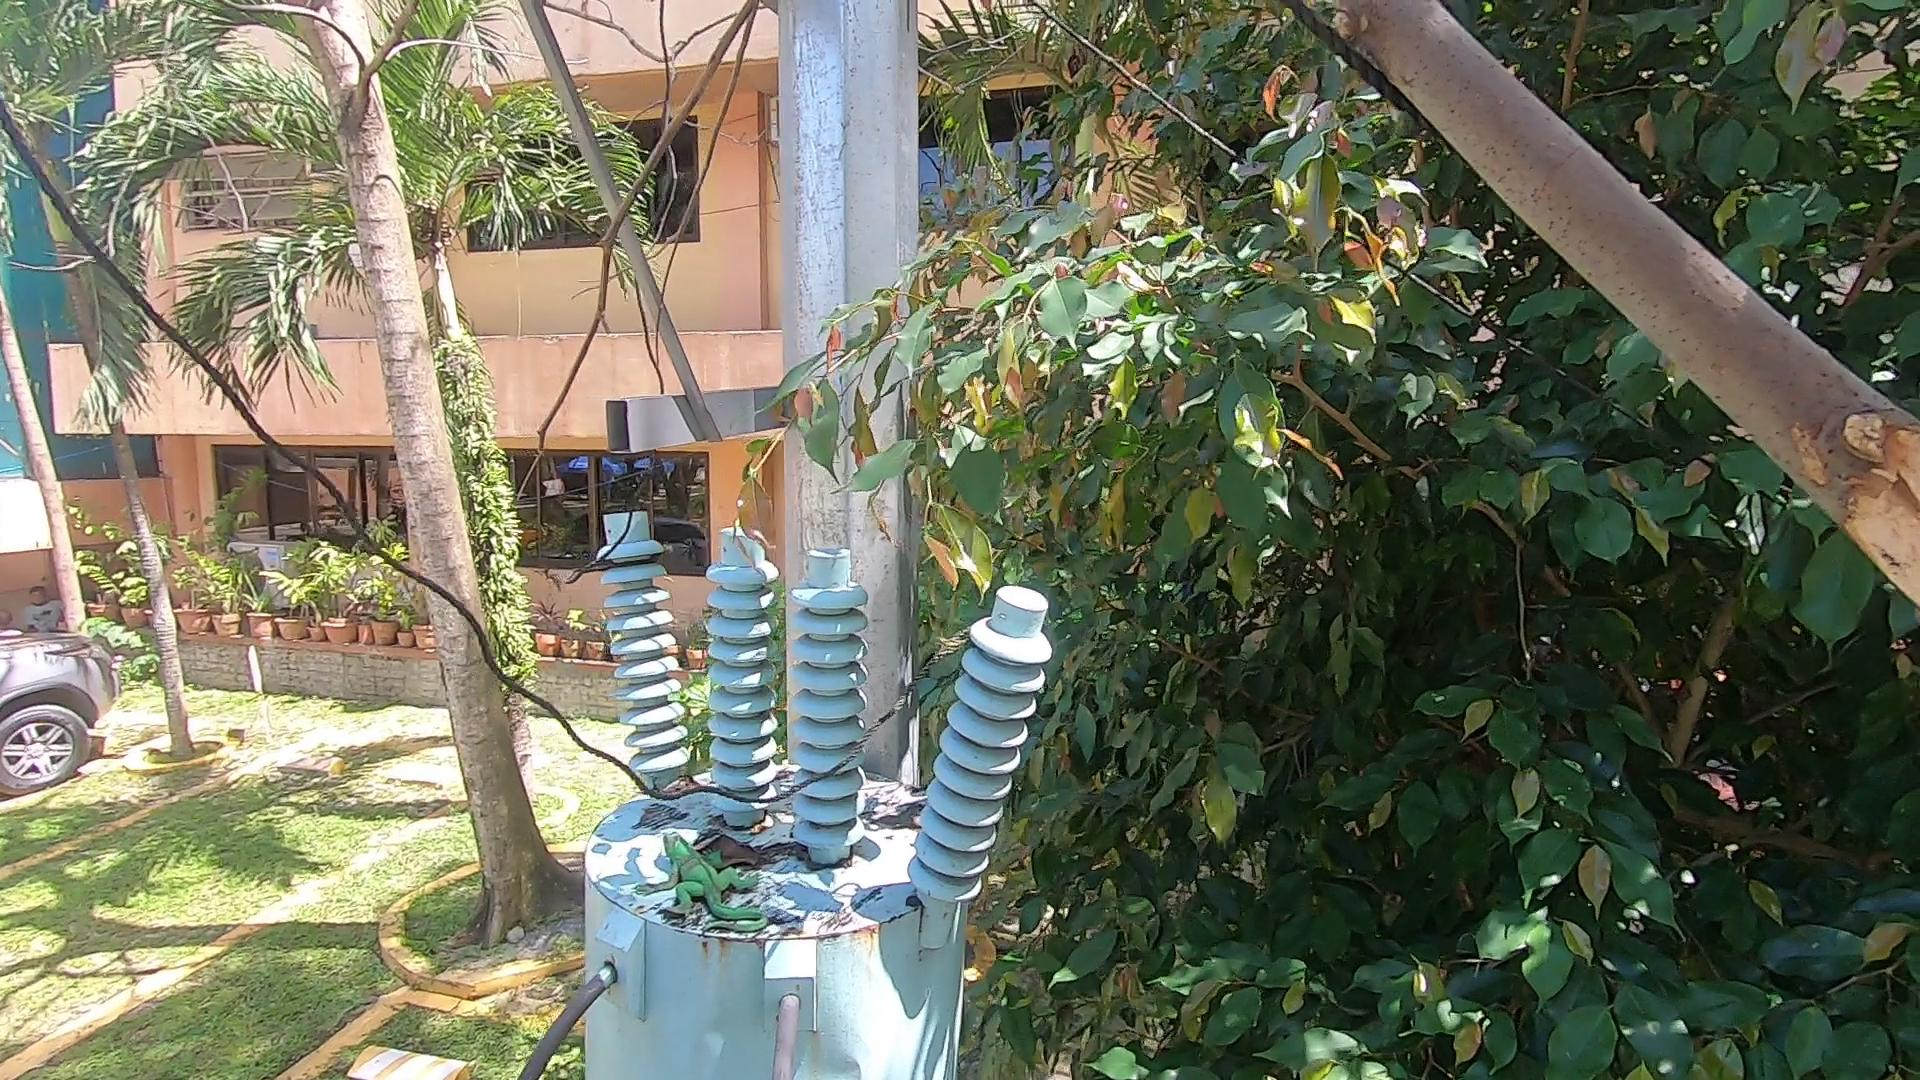branch with leaves: (694, 272, 1139, 603)
leaf: (884, 781, 960, 851), (699, 825, 783, 878), (637, 781, 720, 804)
tree branch: (1342, 1, 1920, 603)
